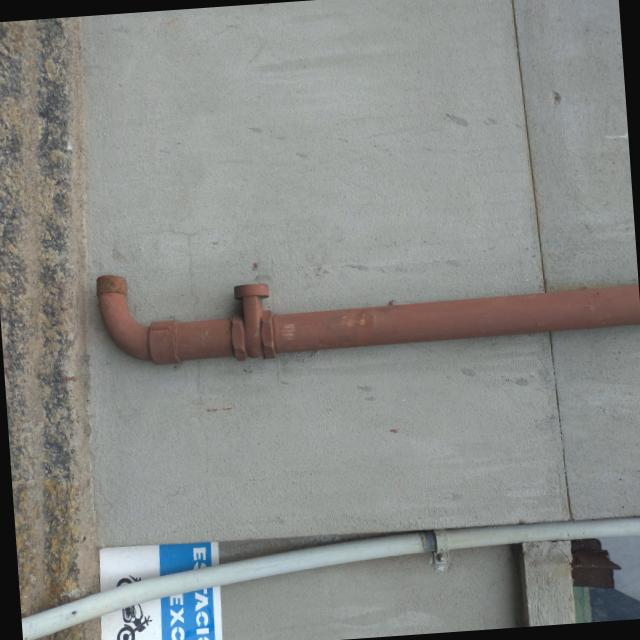gas: (263, 284, 640, 354), (137, 315, 239, 364)
